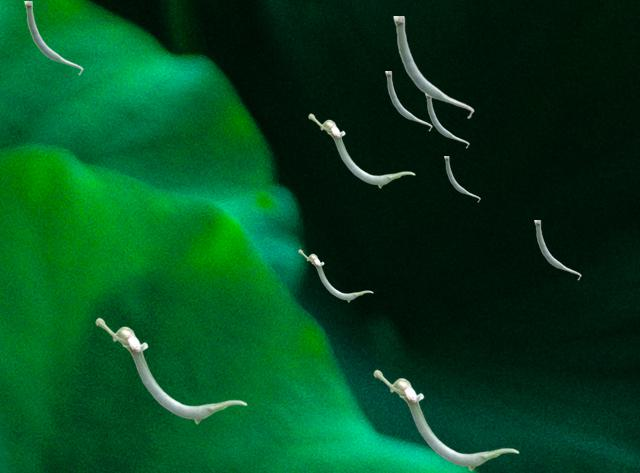french_bean: (95, 317, 246, 423), (373, 369, 518, 470), (393, 16, 473, 118), (308, 113, 414, 187), (24, 1, 82, 74), (298, 249, 372, 301), (534, 220, 580, 279), (385, 71, 431, 130), (425, 95, 468, 147), (444, 156, 479, 201)
